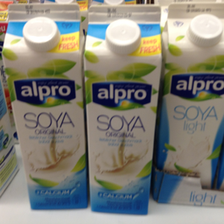milk: (4, 4, 89, 210), (85, 4, 162, 218), (157, 2, 224, 191)
